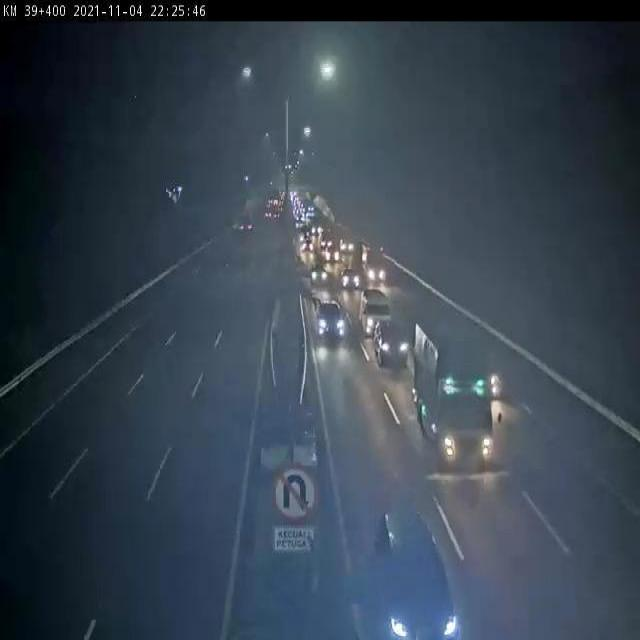car: (358, 512, 479, 640), (373, 309, 414, 371), (312, 294, 350, 350), (362, 287, 389, 340)
truck-m-: (413, 308, 506, 488)
